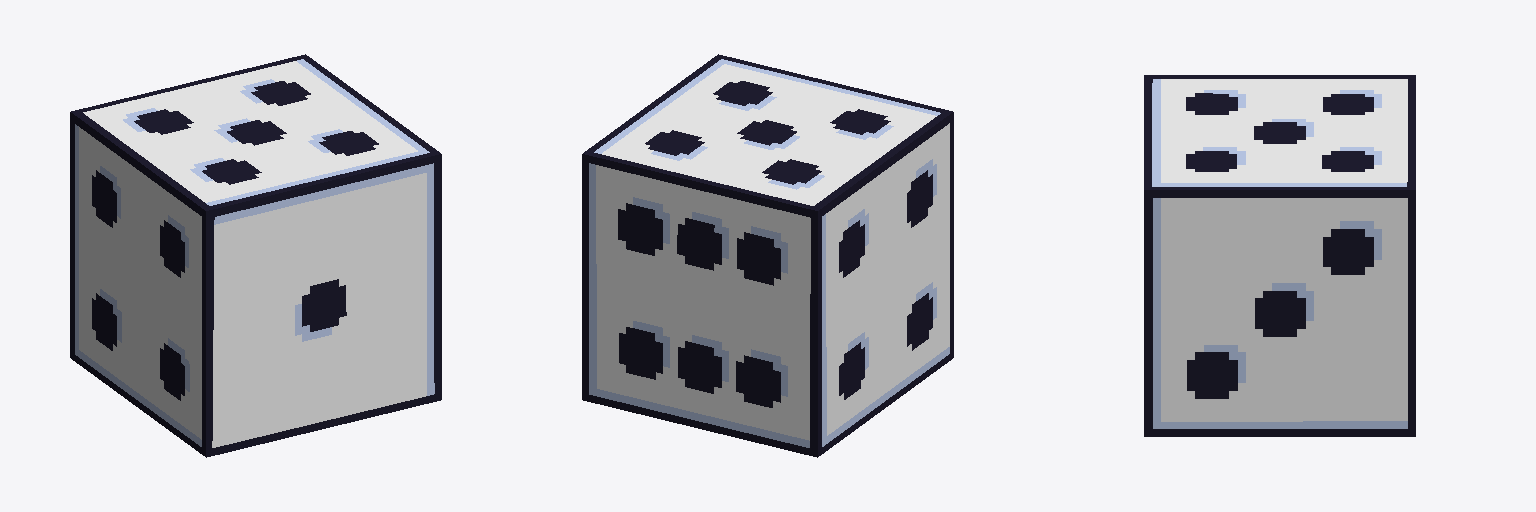
3 views of the same model, side by side, from view 1: azimuth 30°, elevation 25°; view 2: azimuth 150°, elevation 25°; view 3: azimuth 270°, elevation 25° (orthographic).
Parts seen in each view (by area): view 1: Cube; view 2: Cube; view 3: Cube.
Boxes of the visible parts, box(x1,y1,x2,y2) form: Cube: box(70, 54, 441, 457); Cube: box(582, 54, 953, 457); Cube: box(1144, 75, 1415, 436).
Size of the model in its own units: 2 by 2 by 2.
1 materials, 1 textured.